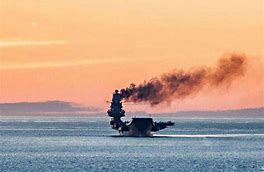smoke: (120, 60, 243, 104)
